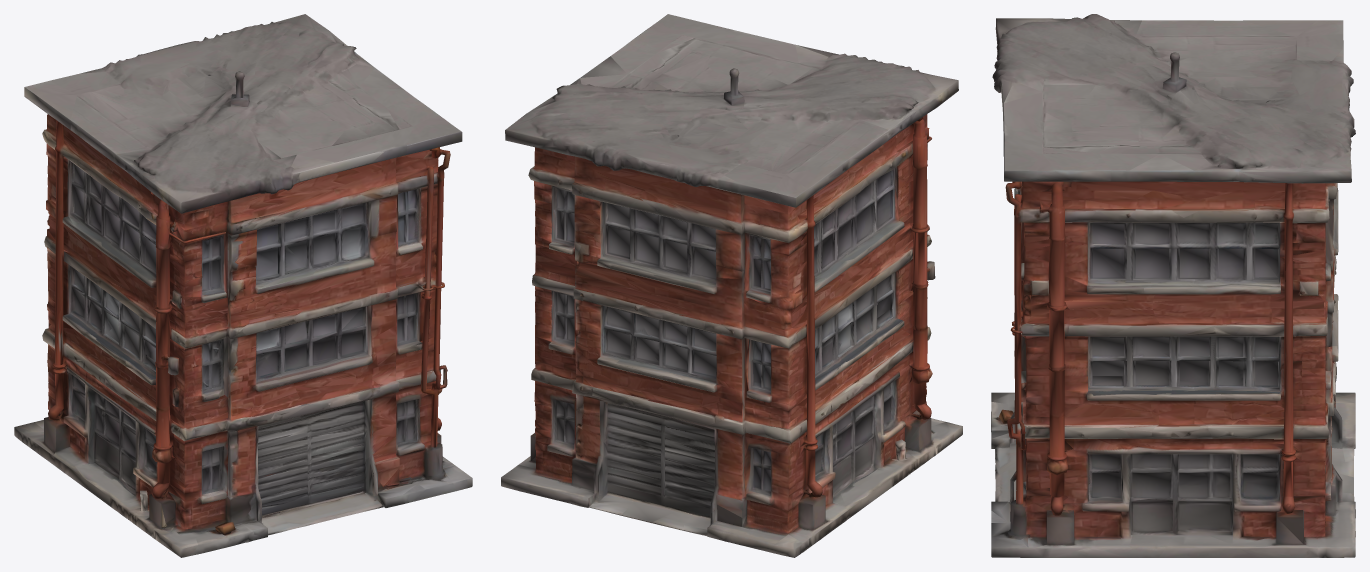
File: bld_ind_works.fbx
The picture shows the model from 3 angles, left to right: view 1: azimuth 30°, elevation 25°; view 2: azimuth 150°, elevation 25°; view 3: azimuth 270°, elevation 25°; orthographic projection. The views are drawn at different scales.
Visible parts, largest first — view 1: bld_ind_works_LOD0; view 2: bld_ind_works_LOD0; view 3: bld_ind_works_LOD0.
Part boxes in pixels (x1,y1,x2,y2): bld_ind_works_LOD0: [14, 14, 472, 557]; bld_ind_works_LOD0: [501, 14, 962, 557]; bld_ind_works_LOD0: [991, 14, 1355, 557].
Size of what is drawn, in the model's own units: 0.768 by 0.9819 by 0.7611.
